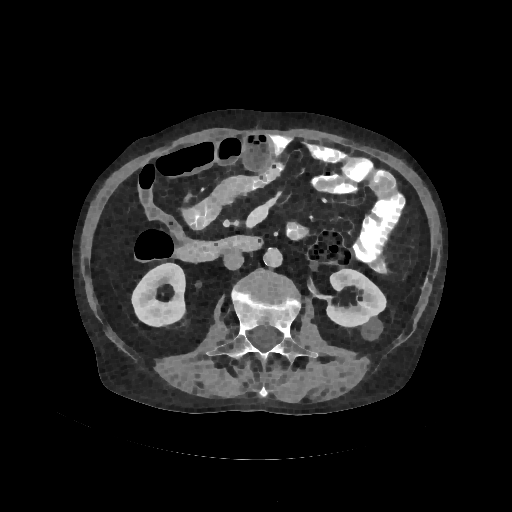Lesion: (357, 316, 386, 345)
